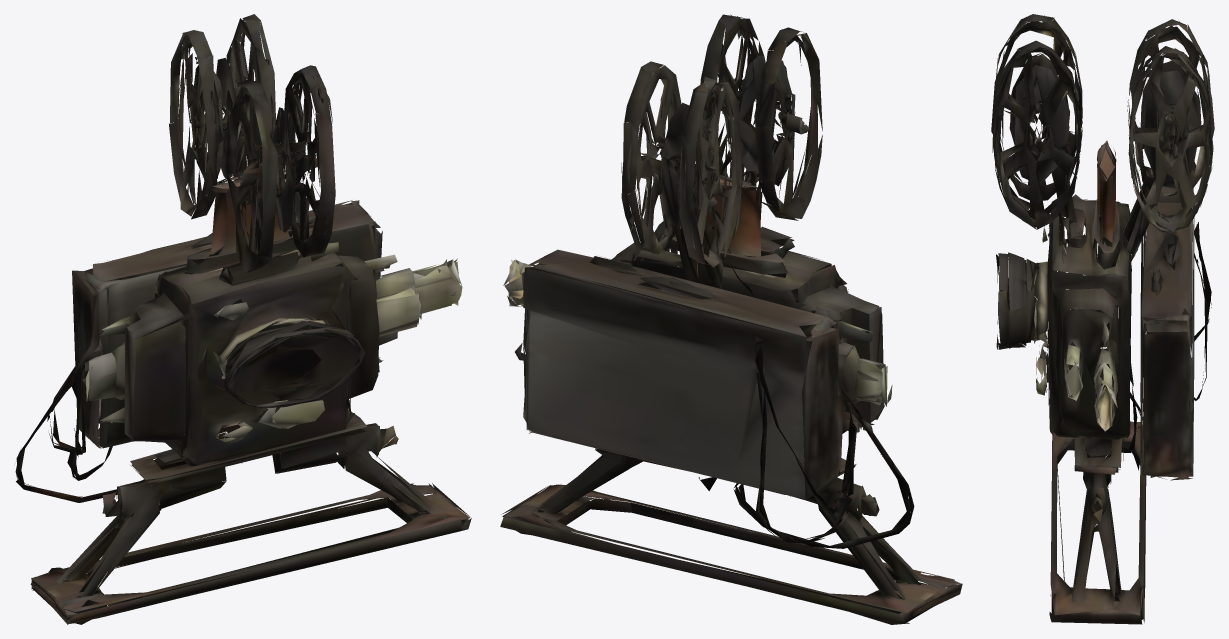
File: proyector_cine.movil.glb
3 views of the same model, side by side, from view 1: azimuth 30°, elevation 25°; view 2: azimuth 150°, elevation 25°; view 3: azimuth 270°, elevation 25° (orthographic). The views are drawn at different scales.
Parts seen in each view (by area): view 1: geometry_0; view 2: geometry_0; view 3: geometry_0.
Boxes of the visible parts, <box> form: geometry_0: <box>15,14,471,624</box>; geometry_0: <box>500,14,962,624</box>; geometry_0: <box>991,14,1214,624</box>.
Bounding box in the file's own units: 1.3 × 1.5 × 0.6064.
Materials: 1 (1 with a texture image).
